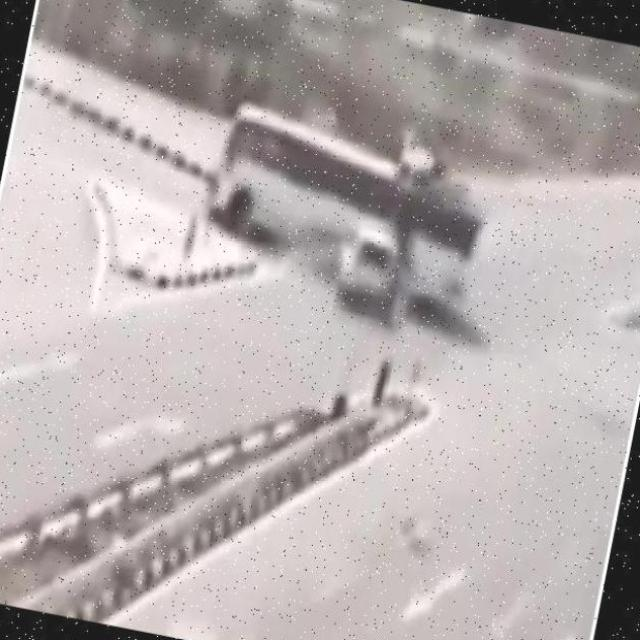accident: (189, 93, 501, 339)
